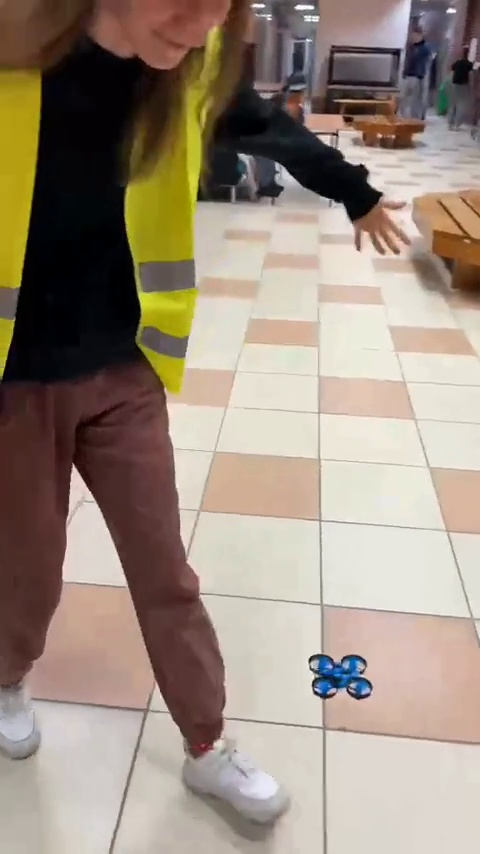drone: (304, 647, 372, 698)
no vest: (399, 25, 429, 132), (448, 47, 473, 121)
vest: (3, 2, 286, 823)
